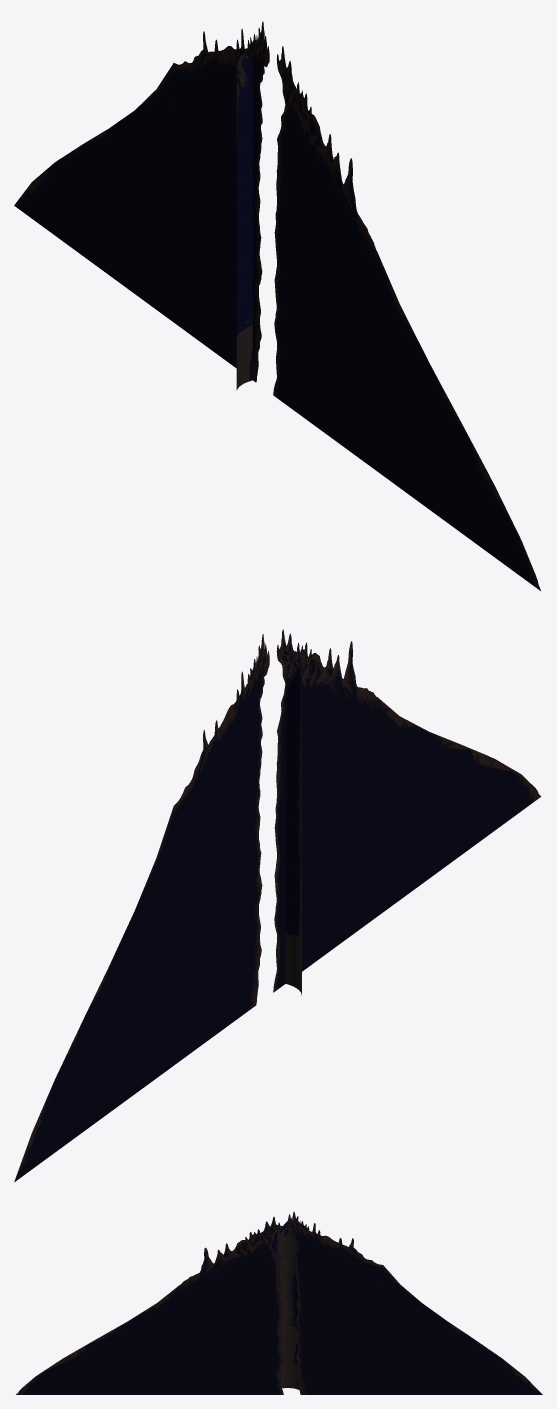
Rendered from volcano.obj.
3 renders of one model, top to bottom at view 1: azimuth 30°, elevation 25°; view 2: azimuth 150°, elevation 25°; view 3: azimuth 270°, elevation 25°, orthographic. The views are drawn at different scales.
Visible parts, largest first — view 1: volcano1; view 2: volcano1; view 3: volcano1.
Part boxes in pixels (x1,y1,x2,y2): volcano1: [14, 21, 540, 590]; volcano1: [14, 629, 540, 1182]; volcano1: [16, 1212, 542, 1394].
Size of the model in its own units: 0.044 by 0.5465 by 1.43.
1 material, 1 textured.
